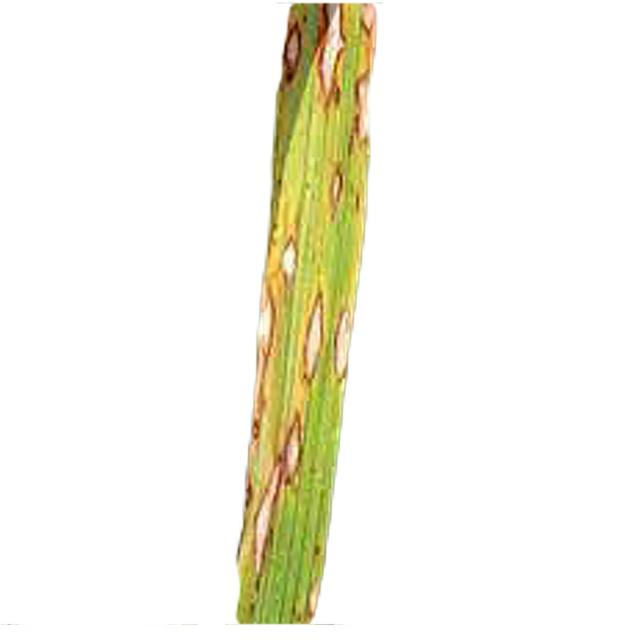Leaf blast: (208, 0, 414, 640)
